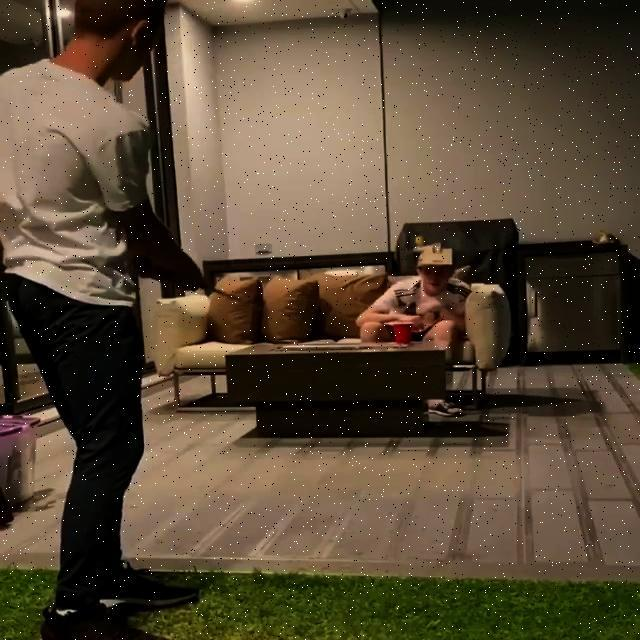golf club-handle: (133, 254, 323, 339)
